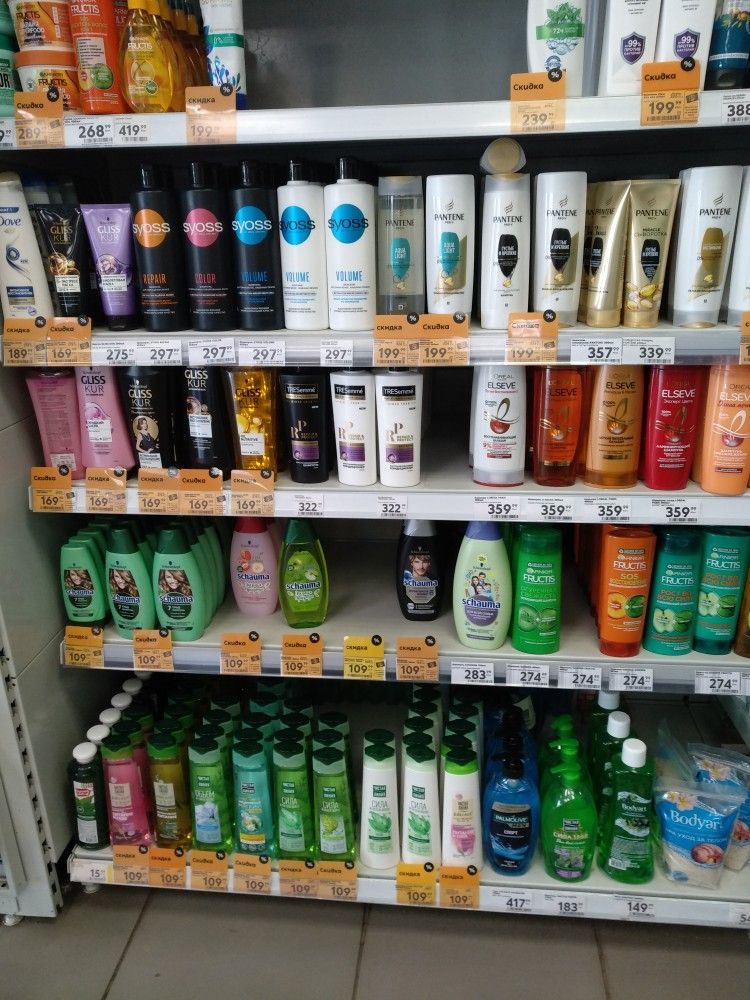Shampoo: (324, 161, 375, 330), (481, 174, 529, 328), (642, 366, 701, 488), (121, 0, 173, 112), (513, 528, 559, 651)
